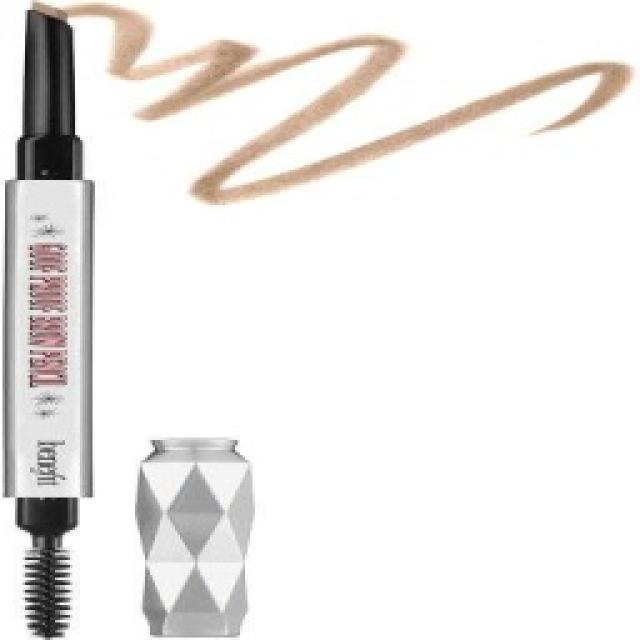pencil: (130, 432, 255, 638)
